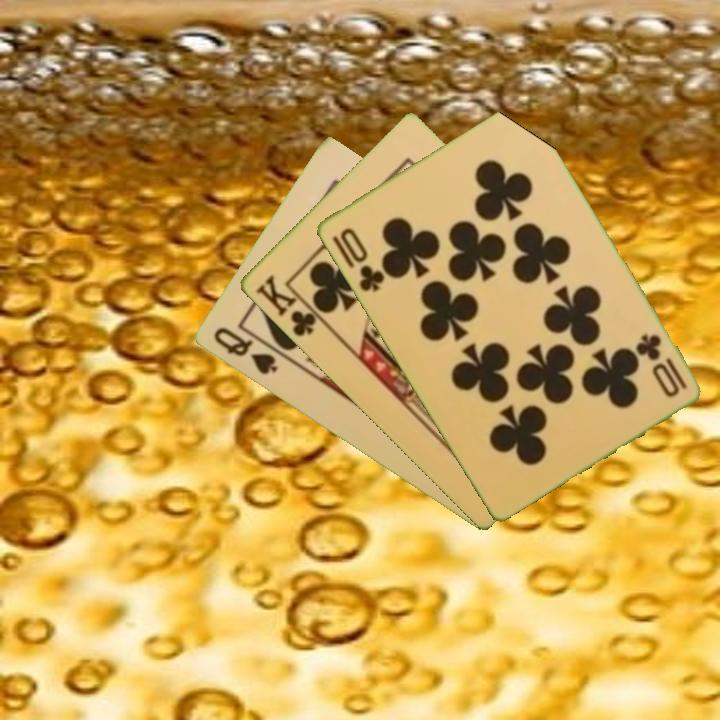10c: (631, 330, 689, 401), (336, 224, 387, 295)
Kc: (251, 271, 327, 340)
Qs: (209, 323, 280, 378)
